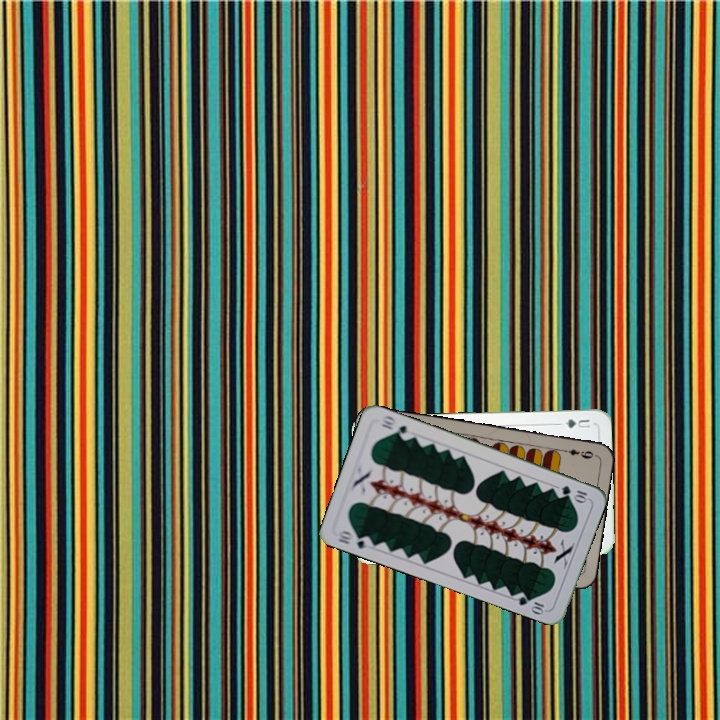E9: (557, 445, 596, 461)
G10: (334, 527, 375, 551), (557, 481, 591, 504)
GU: (560, 415, 593, 431)
